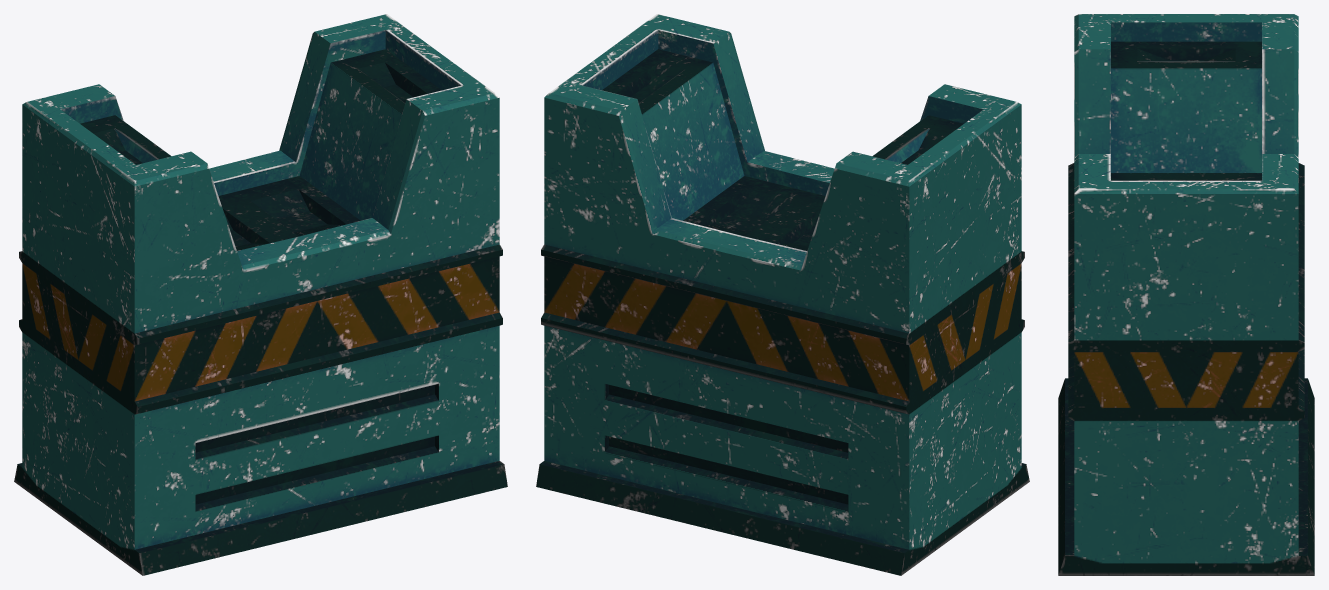
File: Gate_bottom.gltf
3 renders of one model, left to right at view 1: azimuth 30°, elevation 25°; view 2: azimuth 150°, elevation 25°; view 3: azimuth 270°, elevation 25°, orthographic.
Parts seen in each view (by area): view 1: Cube; view 2: Cube; view 3: Cube.
Boxes of the visible parts, left/top/right/bottom form: Cube: left=14, top=14, right=507, bottom=575; Cube: left=536, top=14, right=1029, bottom=575; Cube: left=1058, top=14, right=1314, bottom=575.
Bounding box in the file's own units: 3 × 3.04 × 1.83.
1 material, 1 textured.
